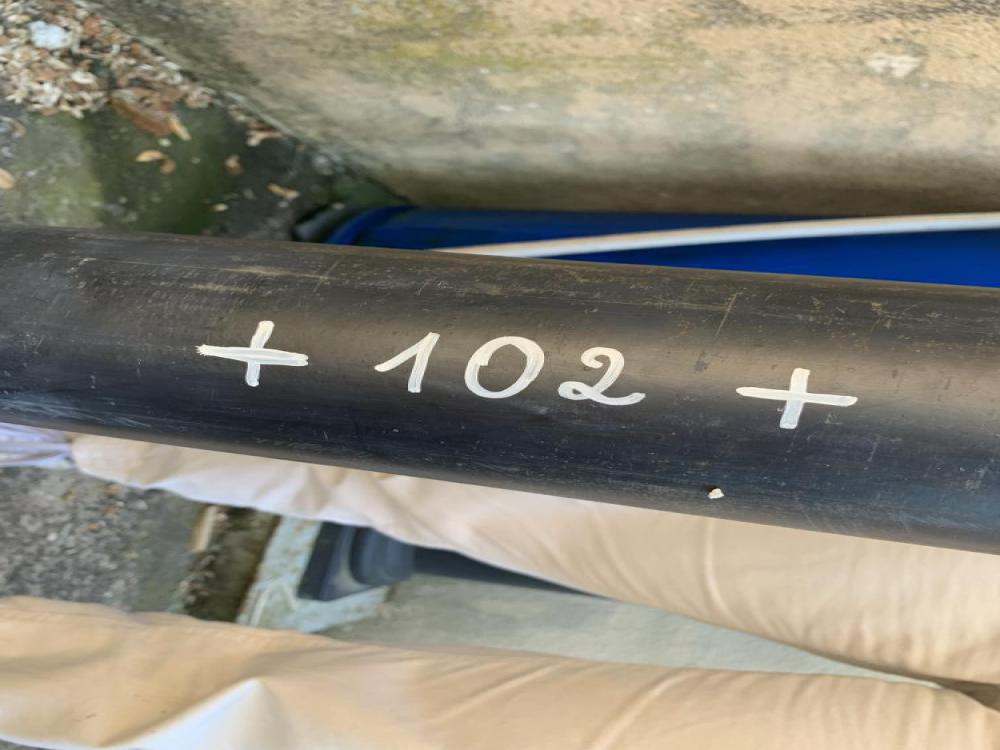+: (197, 319, 312, 387), (740, 368, 858, 429)
0: (466, 336, 549, 399)
1: (376, 331, 441, 394)
2: (559, 346, 646, 409)
